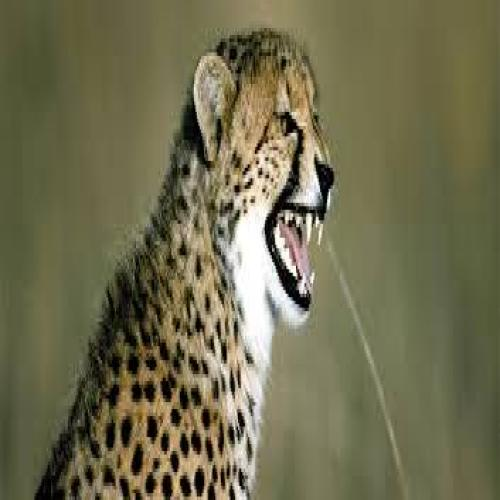cheetah-endangered: (35, 18, 340, 500)
